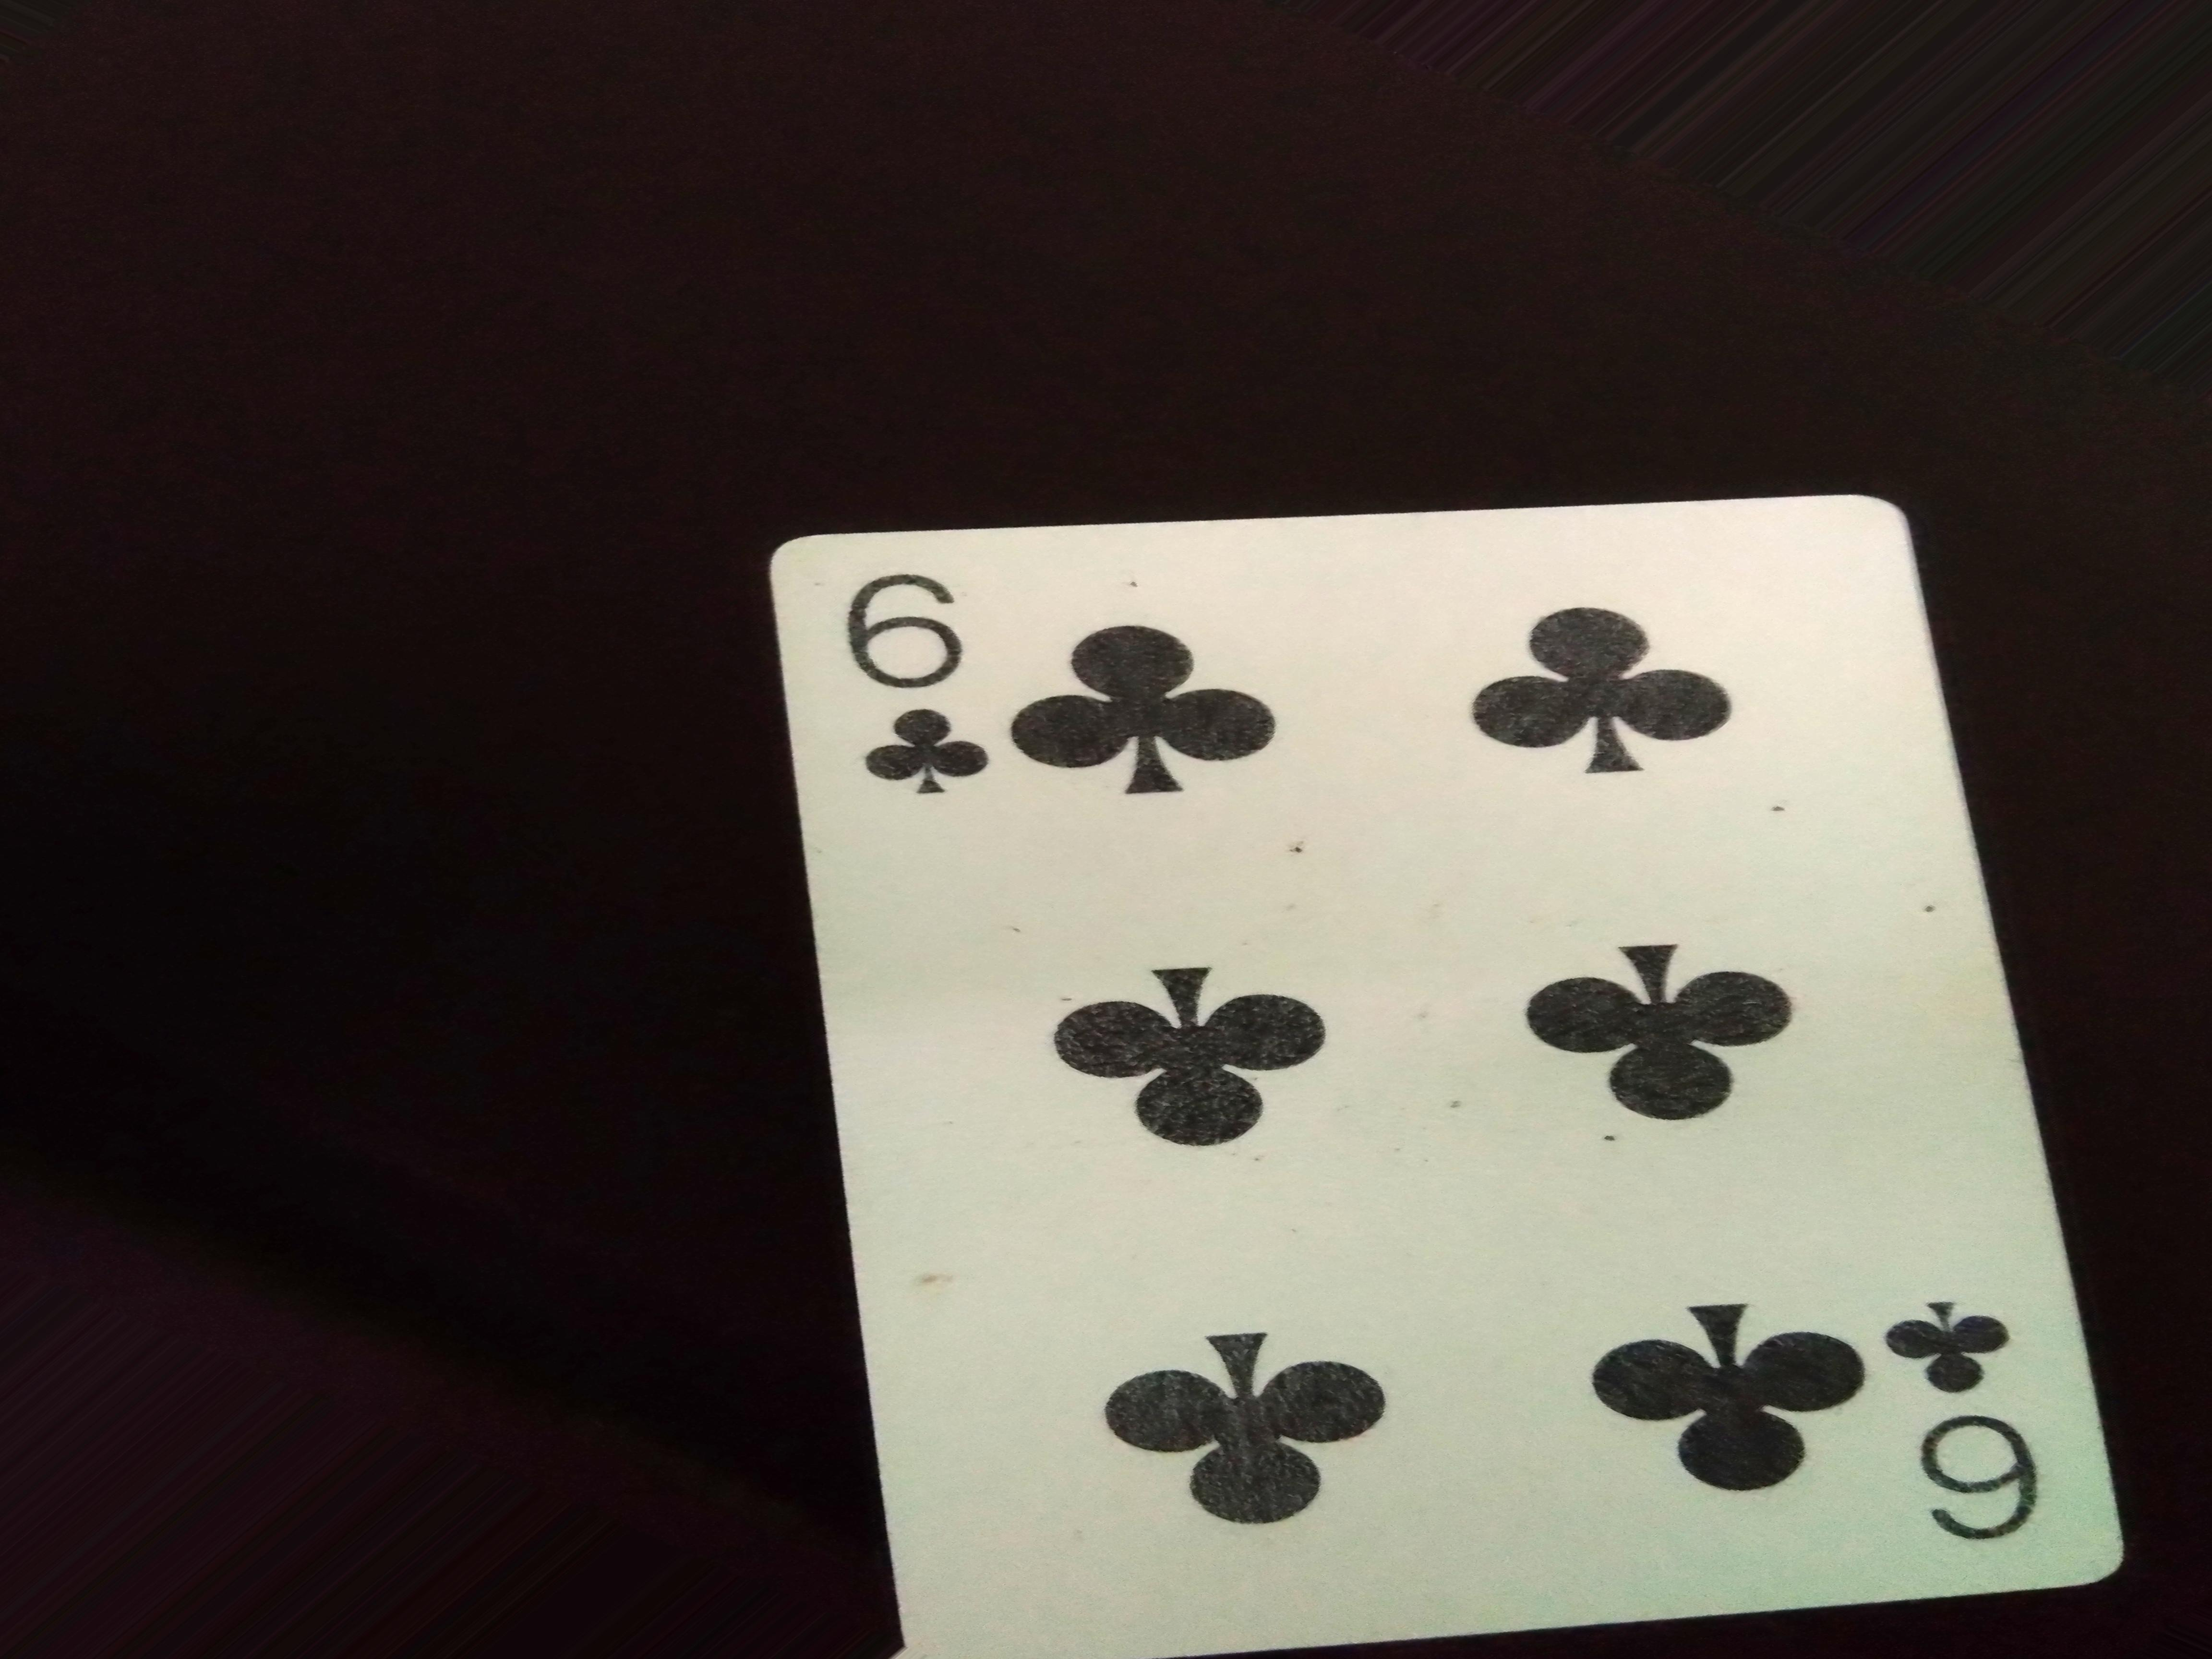6C: (834, 556, 993, 843)
